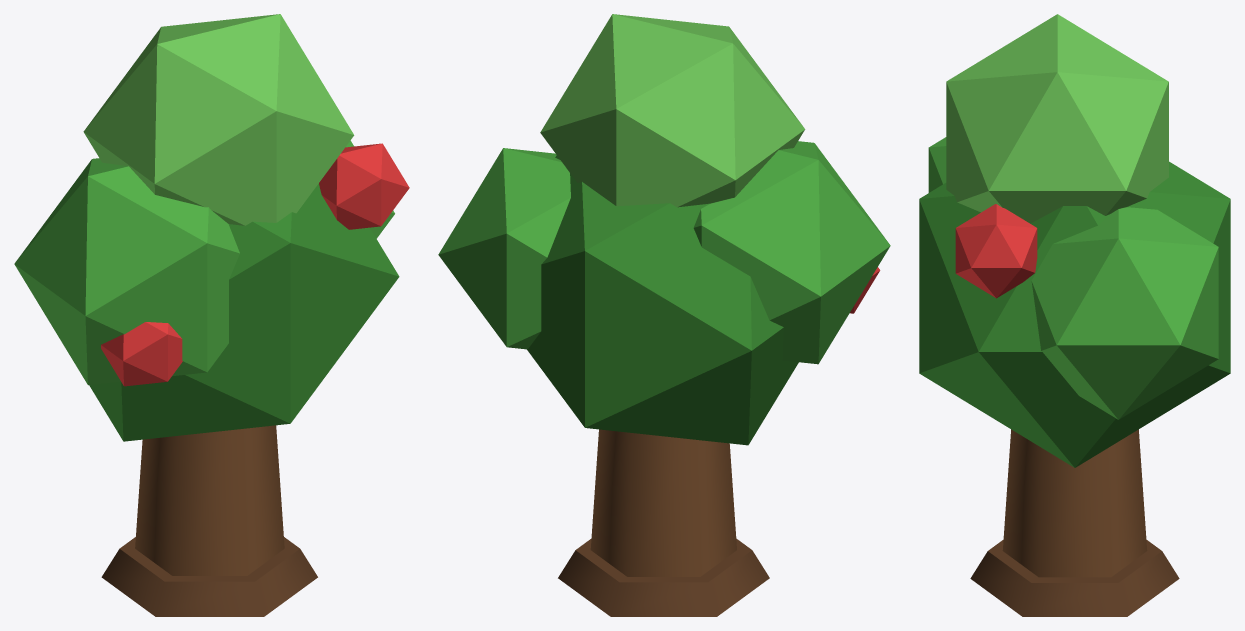
Rendered from plants__roundTree.glb.
3 renders of one model, left to right at view 1: azimuth 30°, elevation 25°; view 2: azimuth 150°, elevation 25°; view 3: azimuth 270°, elevation 25°, orthographic. The views are drawn at different scales.
Parts seen in each view (by area): view 1: plants__roundTree; view 2: plants__roundTree; view 3: plants__roundTree.
Boxes of the visible parts, x1,y1,x2,y2 form: plants__roundTree: [14, 14, 409, 616]; plants__roundTree: [438, 14, 890, 616]; plants__roundTree: [919, 14, 1230, 616].
Bounding box in the file's own units: 0.9049 × 1.36 × 0.7145.
